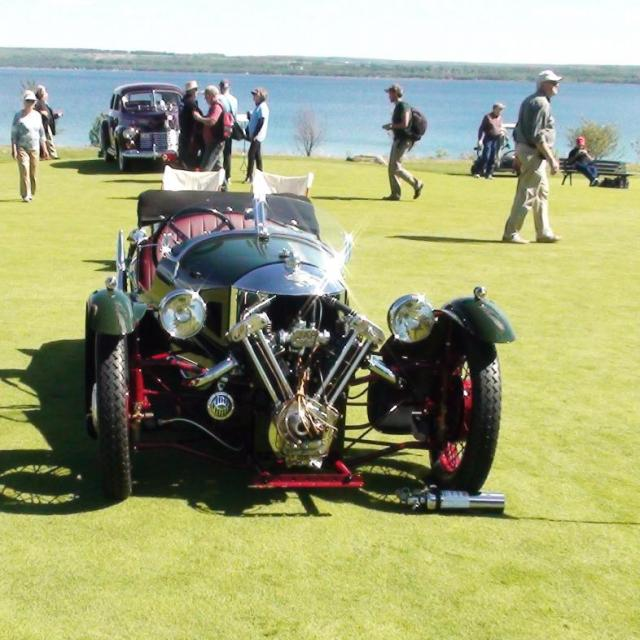other: (82, 168, 516, 492), (92, 76, 183, 159)
